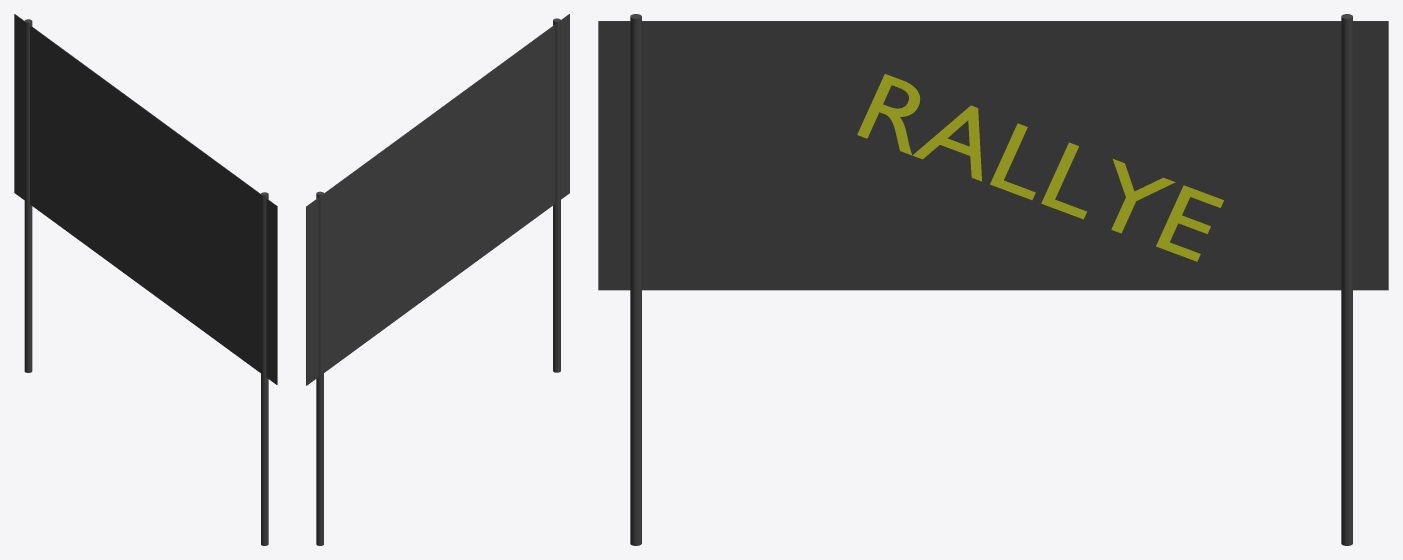
File: fence.fbx
The picture shows the model from 3 angles, left to right: view 1: azimuth 30°, elevation 25°; view 2: azimuth 150°, elevation 25°; view 3: azimuth 270°, elevation 25°; orthographic projection. The views are drawn at different scales.
Visible parts, largest first — view 1: Cylinder.001; view 2: Cylinder.001; view 3: Cylinder.001, Text.
Boxes of the visible parts, box(x1,y1,x2,y2) form: Cylinder.001: box(14, 14, 277, 545); Cylinder.001: box(306, 14, 569, 545); Cylinder.001: box(598, 14, 1388, 545); Text: box(857, 74, 1223, 261).
Size of the model in its own units: 54.97 by 1000 by 1359.
